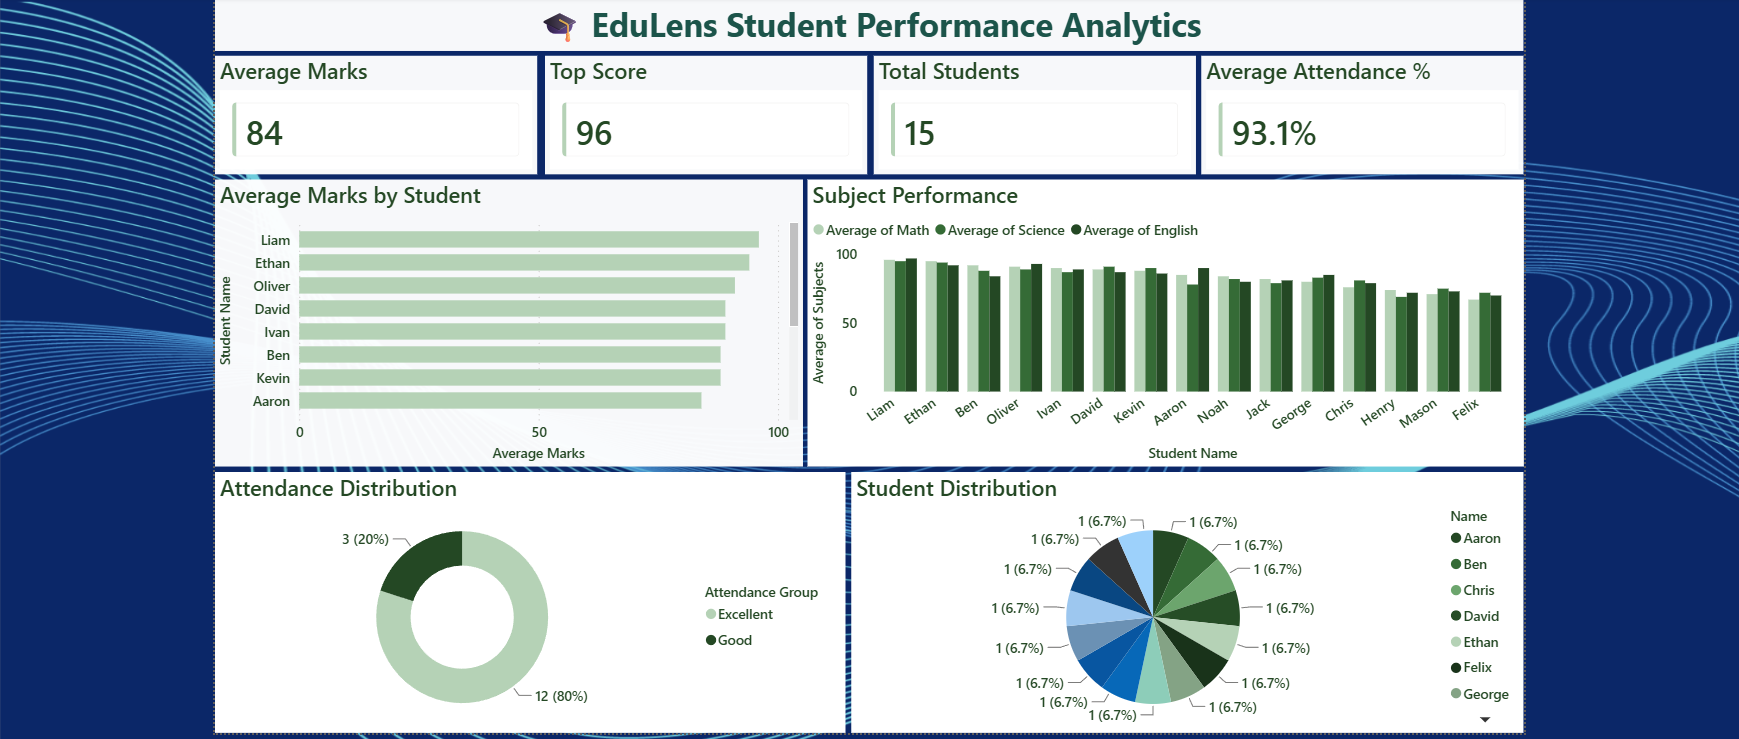

The page's visual inventory and layout, read from the dashboard file:
{"tool":"powerbi","page":{"name":"EduLens Student Performance Analytics","canvas":[1280,720],"ordinal":0},"visuals":[{"type":"textbox","box":[0,0,1280.3,53],"z":0},{"type":"cardVisual","title":"Average Marks","fields":{"Data":["Avg(student_clean.AverageMarks)"]},"box":[0,57.5,315,116.2],"z":1000},{"type":"cardVisual","title":"Top Score","fields":{"Data":["Max(student_clean.AverageMarks)"]},"box":[322.8,57.5,315.5,116.2],"z":2000},{"type":"cardVisual","title":"Total Students","fields":{"Data":["CountNonNull(student_clean.StudentID)"]},"box":[644.4,57.5,315,116.2],"z":3000},{"type":"cardVisual","title":"Average Attendance %","fields":{"Data":["student_clean.Average Attendance %"]},"box":[964.8,57.5,315.5,116.2],"z":4000},{"type":"clusteredBarChart","title":"Average Marks by Student","fields":{"Category":["student_clean.Name"],"Y":["Avg(student_clean.AverageMarks)"]},"box":[0,178.5,575,281],"z":5000},{"type":"clusteredColumnChart","title":"Subject Performance","fields":{"Category":["student_clean.Name"],"Y":["Avg(student_clean.Math)","Avg(student_clean.Science)","Avg(student_clean.English)"]},"box":[579.6,178.5,700.7,281],"z":6000},{"type":"donutChart","title":"Attendance Distribution","fields":{"Category":["student_clean.Attendance Group"],"Y":["CountNonNull(student_clean.StudentID)"]},"box":[0,464.7,617,255.6],"z":7000},{"type":"pieChart","title":"Student Distribution","fields":{"Category":["student_clean.Name"],"Y":["CountNonNull(student_clean.StudentID)"]},"box":[622.4,464.7,657.9,255.6],"z":8000}]}

Visuals, with their boxes in screenshot pixels (x1, y1, x2, y2):
textbox: 222/0/1516/49
"Average Marks" cardVisual: 222/54/540/171
"Top Score" cardVisual: 548/54/867/171
"Total Students" cardVisual: 873/54/1192/171
"Average Attendance %" cardVisual: 1197/54/1516/171
"Average Marks by Student" clusteredBarChart: 222/176/803/460
"Subject Performance" clusteredColumnChart: 808/176/1516/460
"Attendance Distribution" donutChart: 222/465/846/724
"Student Distribution" pieChart: 851/465/1516/724
